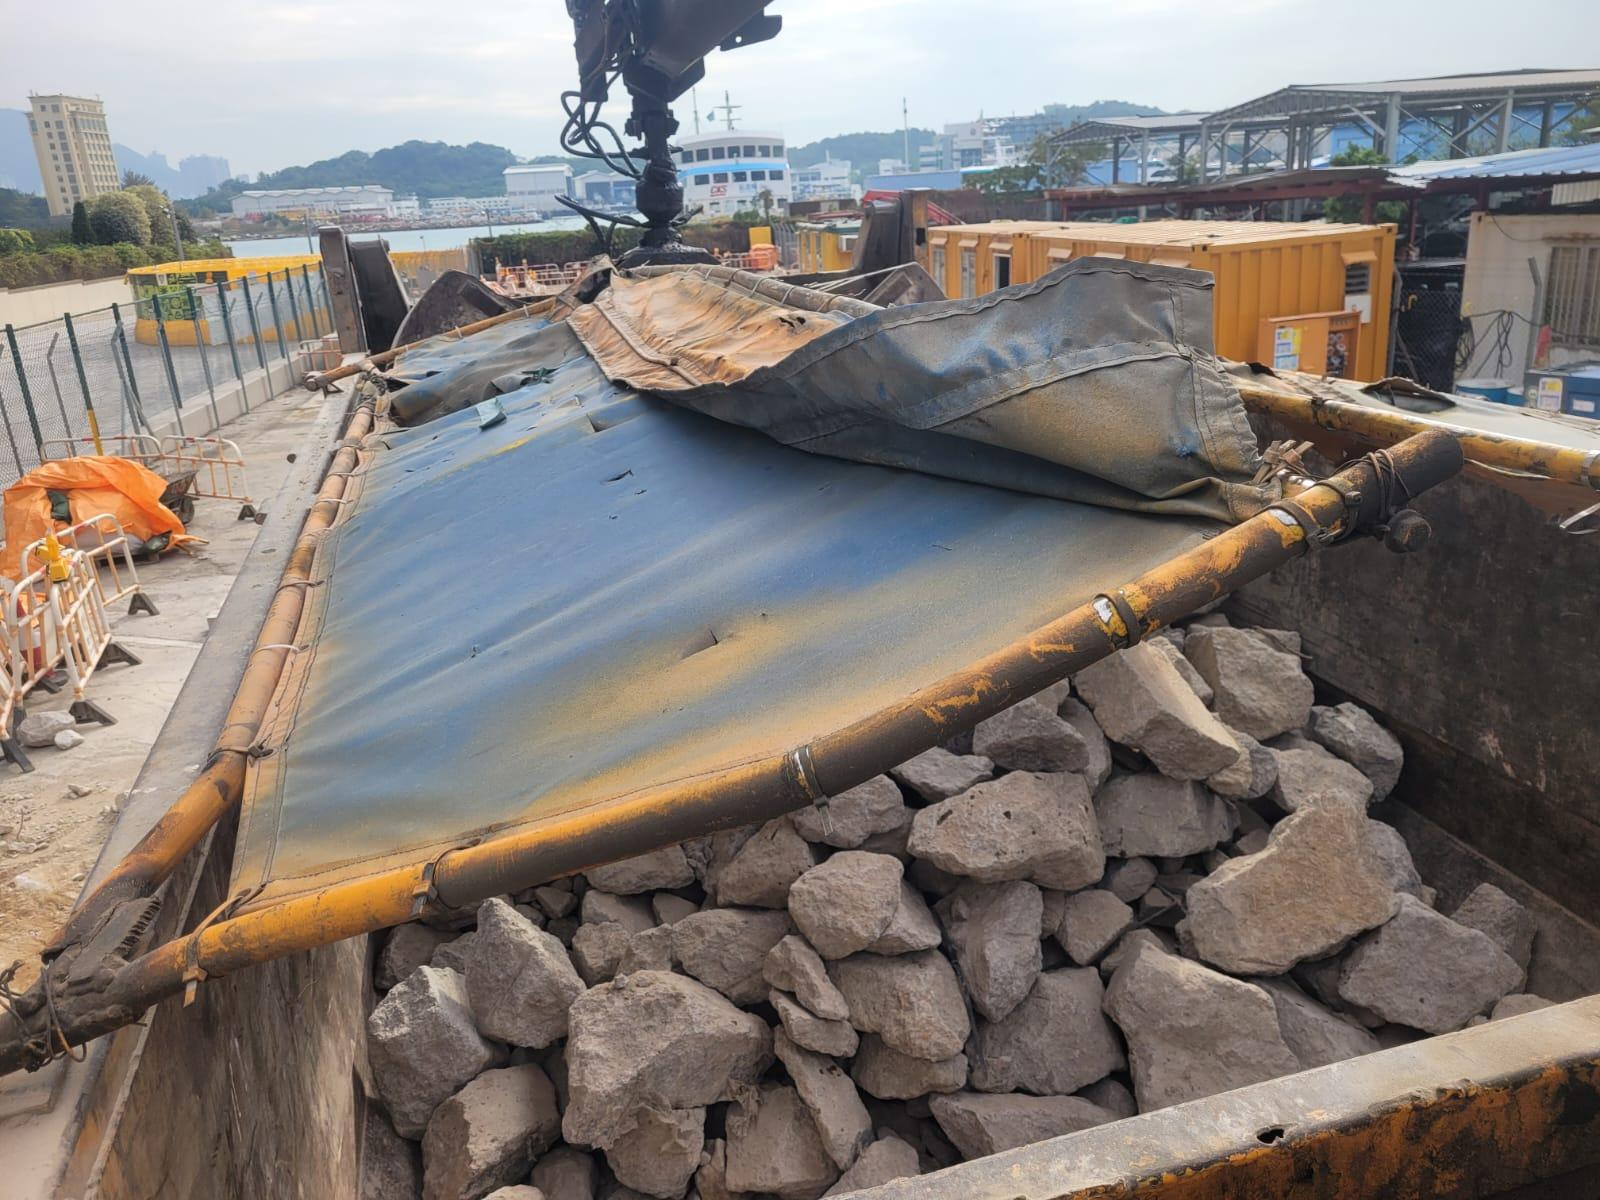dry: (375, 615, 1570, 1196)
